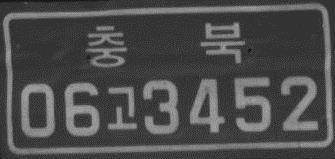0: (18, 82, 57, 140)
2: (277, 74, 323, 134)
3: (141, 78, 180, 136)
4: (185, 74, 225, 136)
5: (231, 74, 273, 135)
6: (62, 79, 101, 139)
고: (105, 84, 138, 132)
충북_D: (84, 19, 248, 67)
